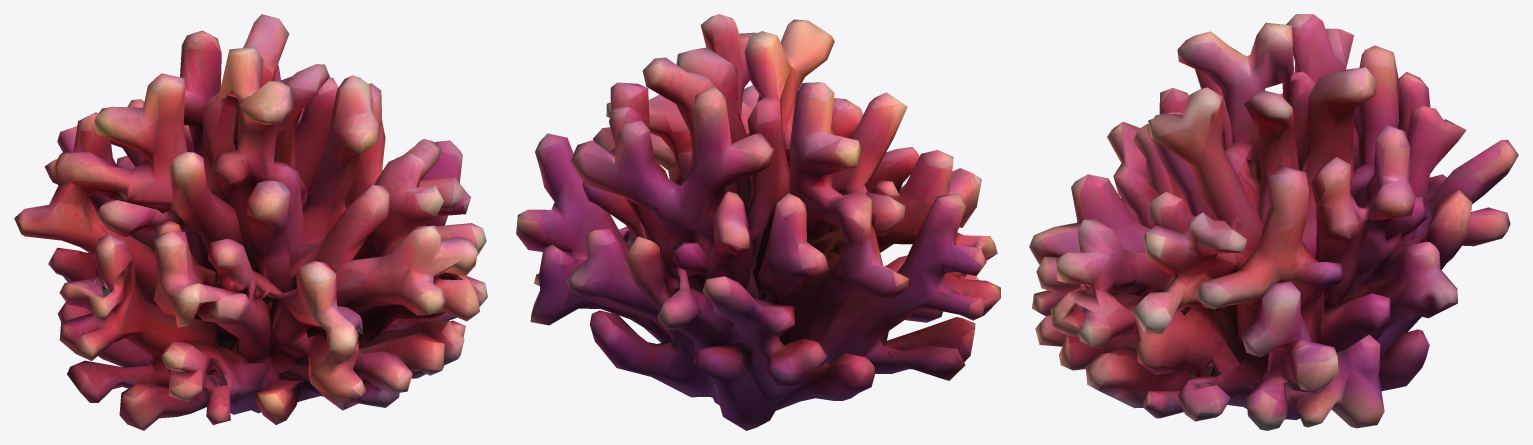
The model's file is staghorn.glb.
3 views of the same model, side by side, from view 1: azimuth 30°, elevation 25°; view 2: azimuth 150°, elevation 25°; view 3: azimuth 270°, elevation 25° (orthographic). The views are drawn at different scales.
Parts seen in each view (by area): view 1: low; view 2: low; view 3: low.
Part boxes in pixels (x1,y1,x2,y2): low: (14, 14, 487, 430); low: (516, 14, 1000, 430); low: (1029, 14, 1518, 430).
Bounding box in the file's own units: 2.41 × 2 × 2.31.
1 material, 1 textured.
